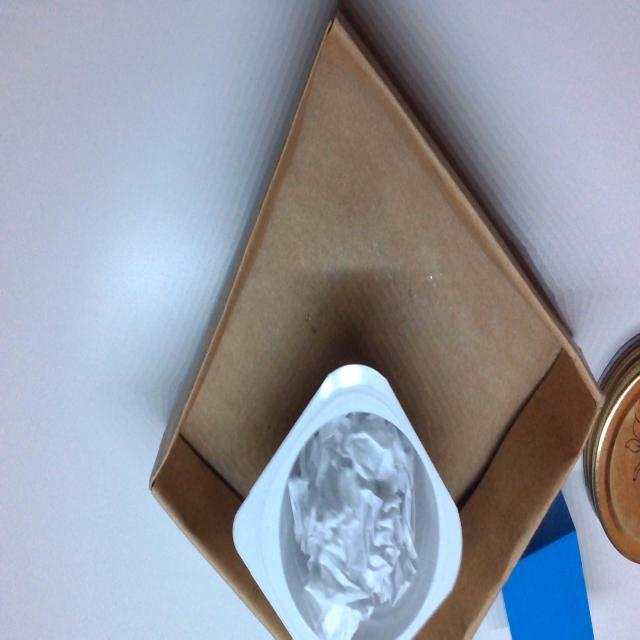Paper: (294, 419, 416, 625)
